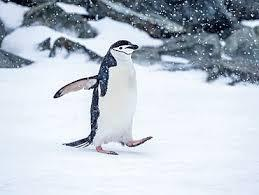chinstrap: (51, 32, 162, 161)
